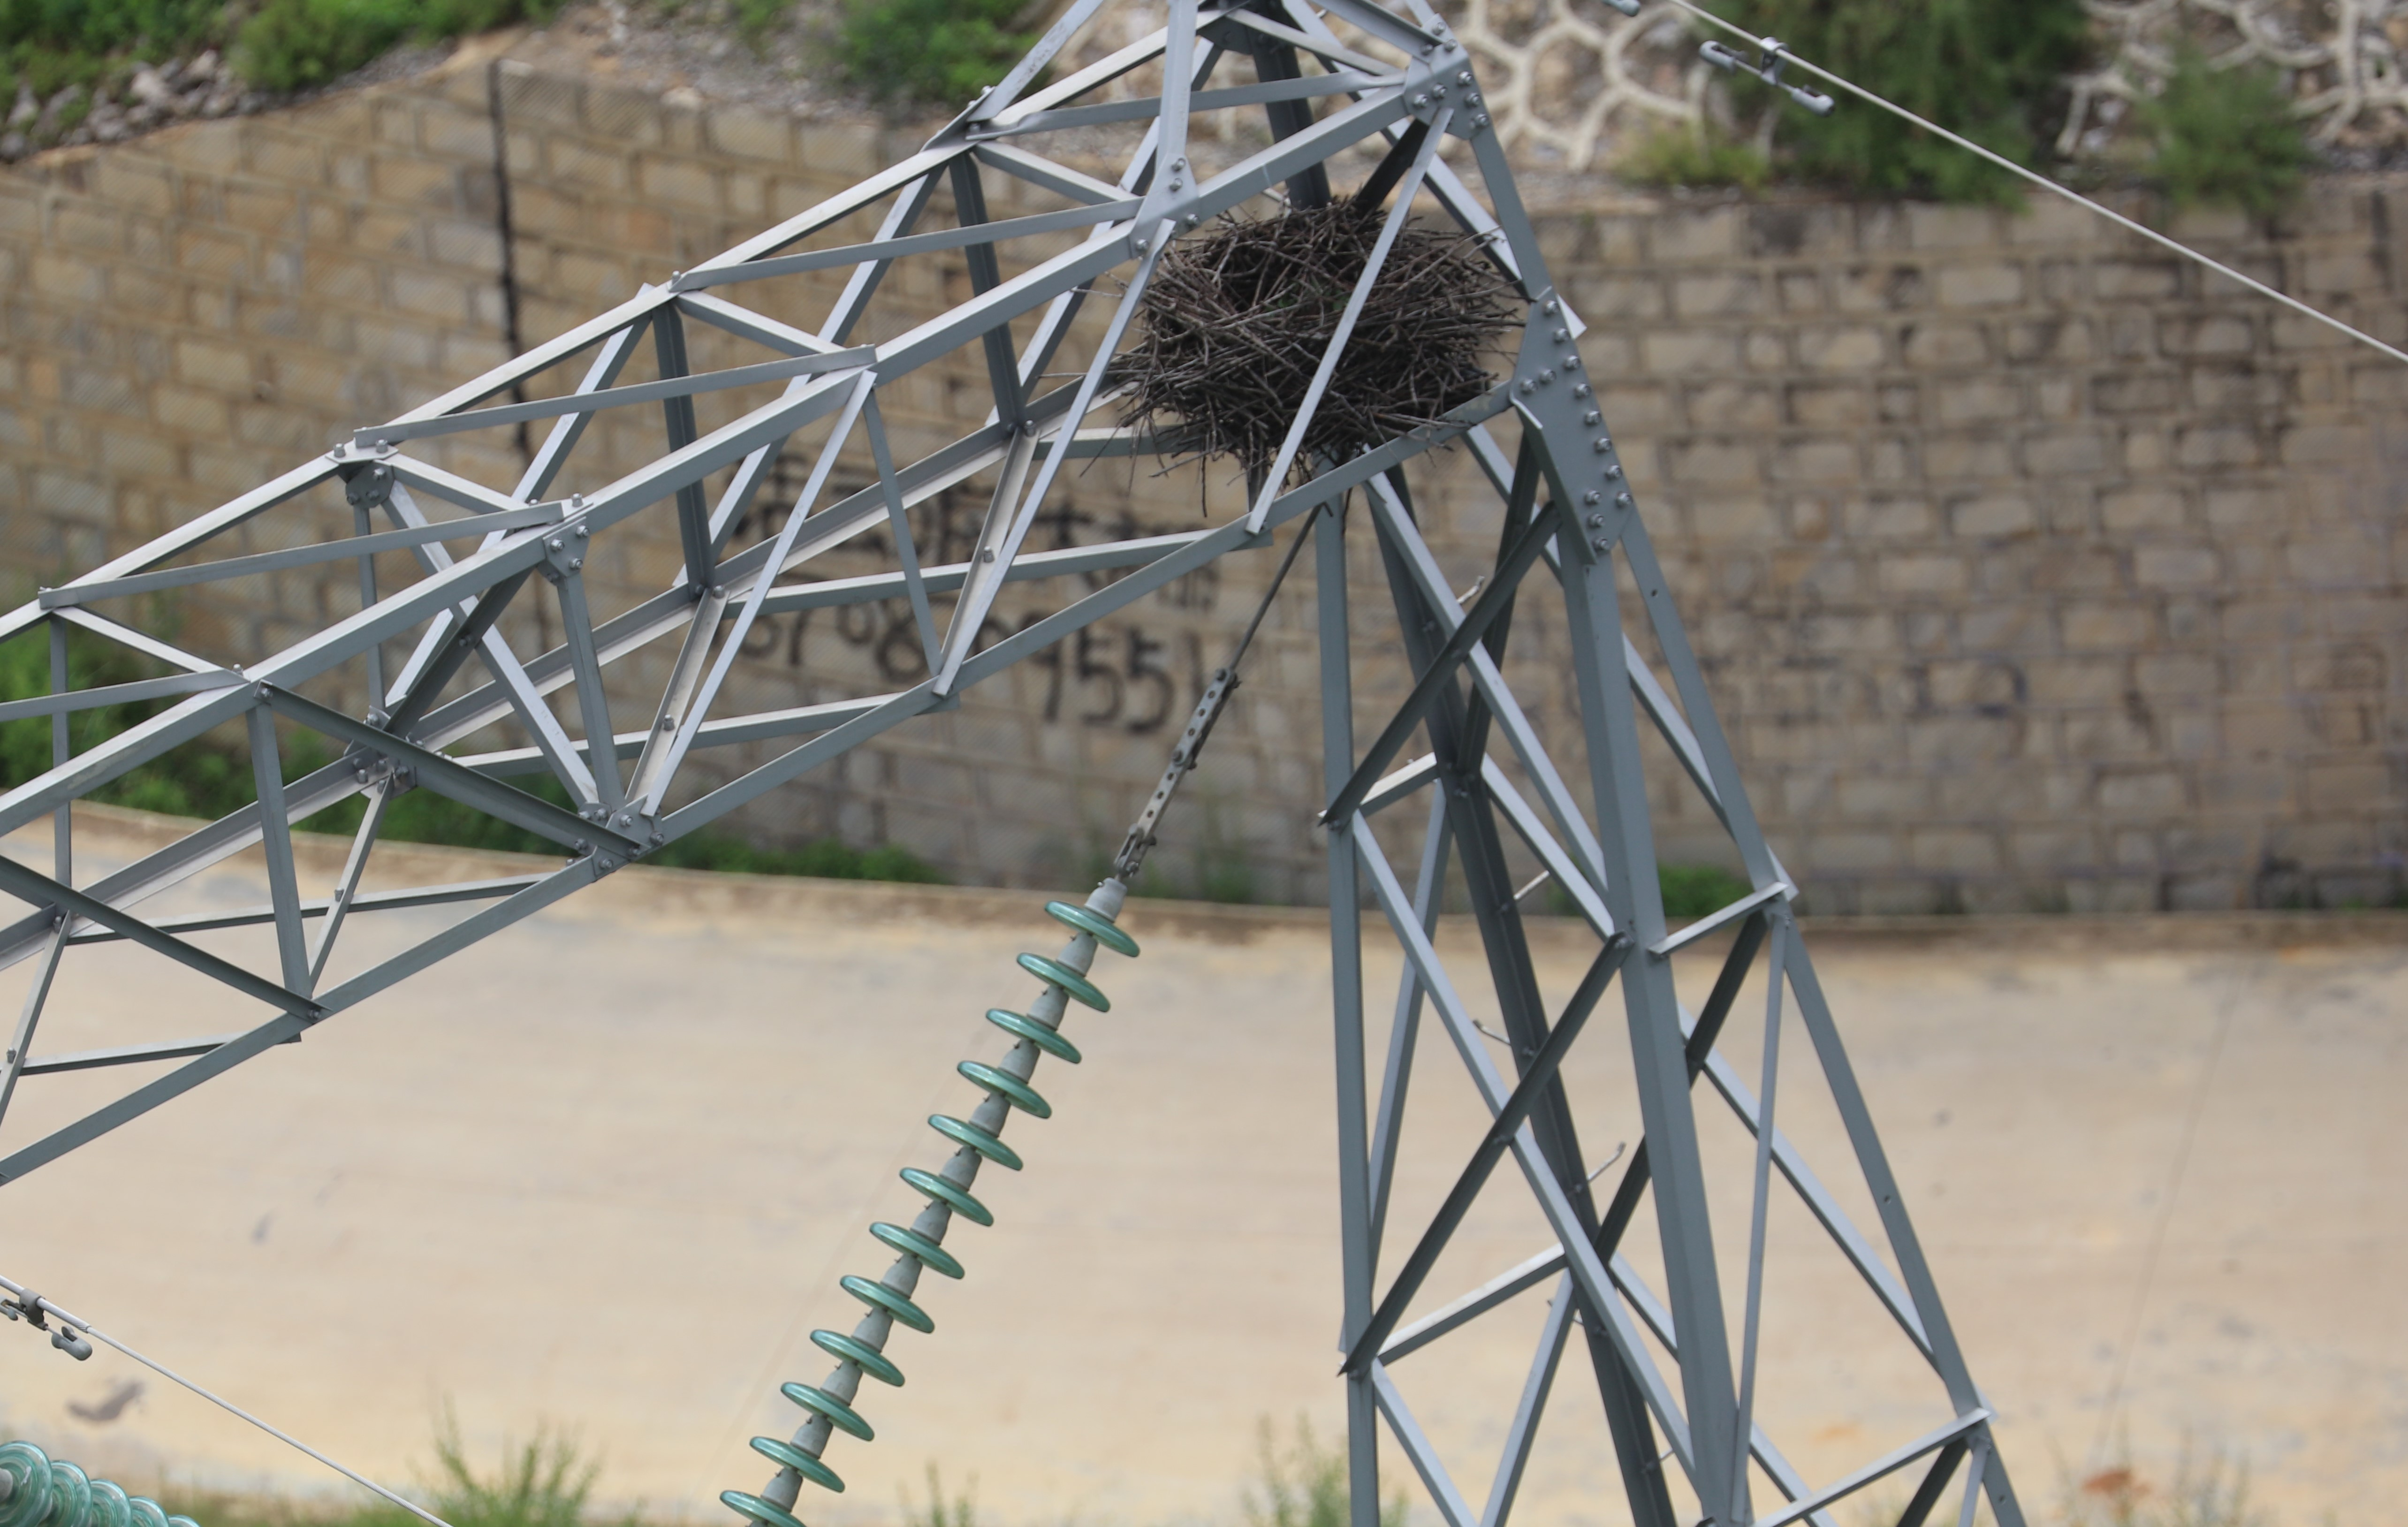niaowo: (1123, 174, 1508, 474)
